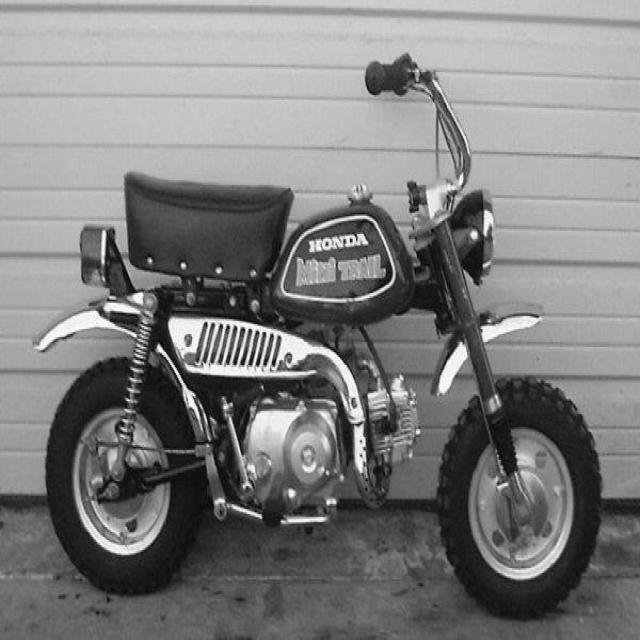Motorcycle: (36, 52, 602, 618)
